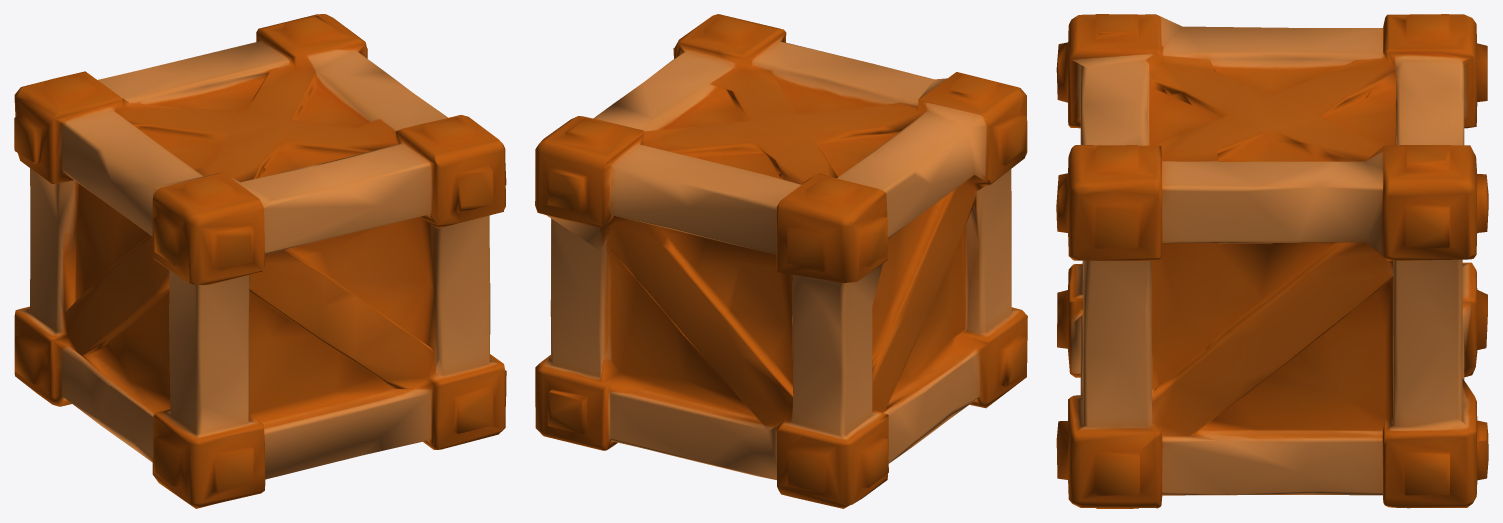
The model's file is level1_fixed.fbx.
3 views of the same model, side by side, from view 1: azimuth 30°, elevation 25°; view 2: azimuth 150°, elevation 25°; view 3: azimuth 270°, elevation 25° (orthographic). The views are drawn at different scales.
Visible parts, largest first — view 1: tripo_node_31d893a6; view 2: tripo_node_31d893a6; view 3: tripo_node_31d893a6.
Part boxes in pixels (left/top/right/bottom): tripo_node_31d893a6: left=14, top=14, right=506, bottom=508; tripo_node_31d893a6: left=535, top=14, right=1027, bottom=508; tripo_node_31d893a6: left=1056, top=14, right=1488, bottom=508.
Size of the model in its own units: 100 by 99.49 by 87.99.
Materials: 1 (1 with a texture image).
